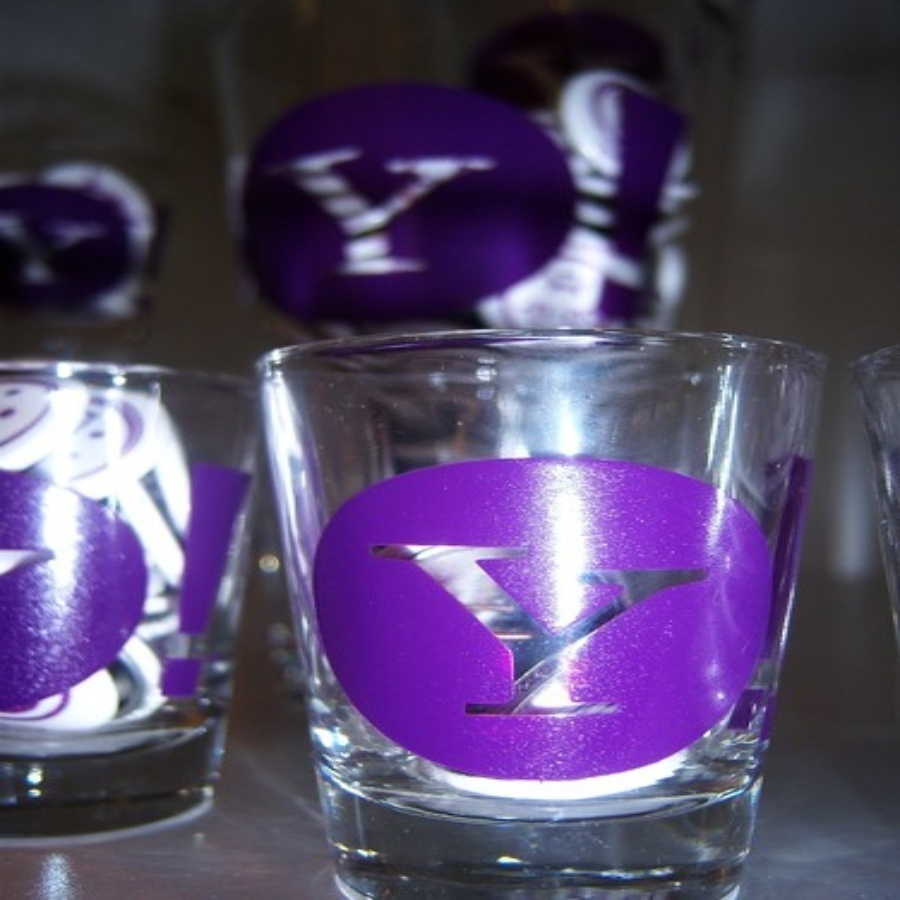whiskey: (253, 339, 833, 895)
